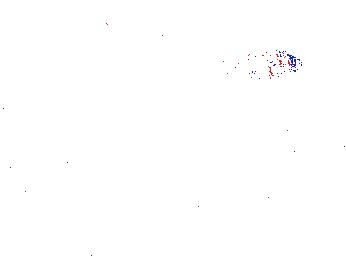X-ray fish: (227, 47, 305, 82)
glassfish: (80, 5, 208, 76)
